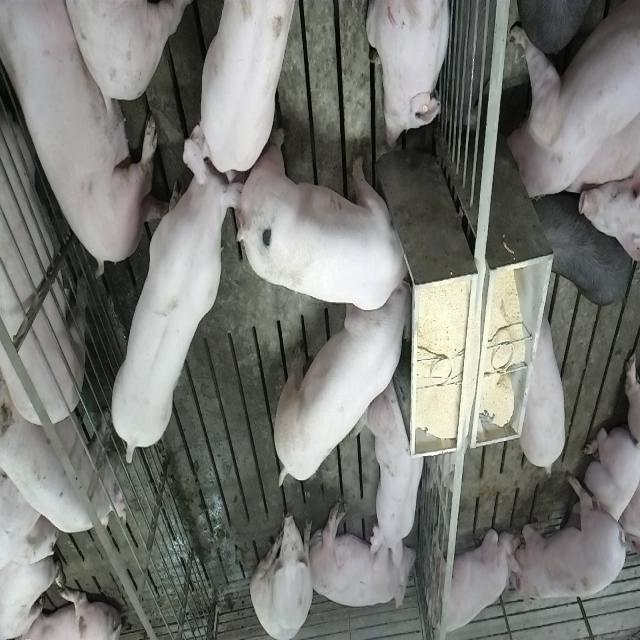Feeding: (243, 126, 419, 311), (270, 280, 410, 494)
Lateral_lying: (307, 501, 417, 615)
Sitting: (422, 516, 515, 640), (251, 502, 315, 638)
Standing: (109, 122, 245, 466), (0, 55, 89, 432), (506, 0, 638, 201), (190, 1, 300, 174), (0, 385, 123, 539), (508, 474, 628, 614), (538, 192, 634, 310), (519, 315, 572, 480)
Sternal_lying: (365, 0, 453, 151), (360, 380, 431, 566), (572, 428, 638, 558)
